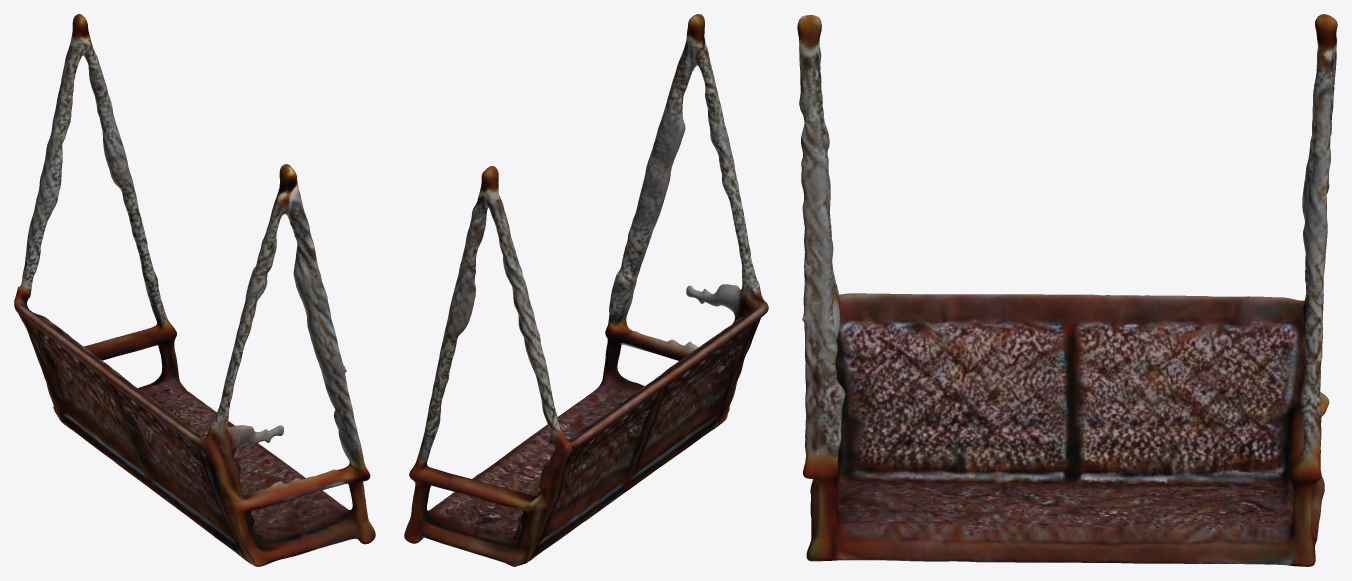
File: 48e2c4e32db4_porch_swing.glb
The picture shows the model from 3 angles, left to right: view 1: azimuth 30°, elevation 25°; view 2: azimuth 150°, elevation 25°; view 3: azimuth 270°, elevation 25°; orthographic projection. The views are drawn at different scales.
Parts seen in each view (by area): view 1: geometry_0; view 2: geometry_0; view 3: geometry_0.
Boxes of the visible parts, bbox=[...] form: geometry_0: bbox=[14, 14, 375, 566]; geometry_0: bbox=[404, 14, 768, 566]; geometry_0: bbox=[797, 14, 1337, 566].
Size of the model in its own units: 0.1879 by 0.4109 by 0.403.
1 material, 1 textured.
